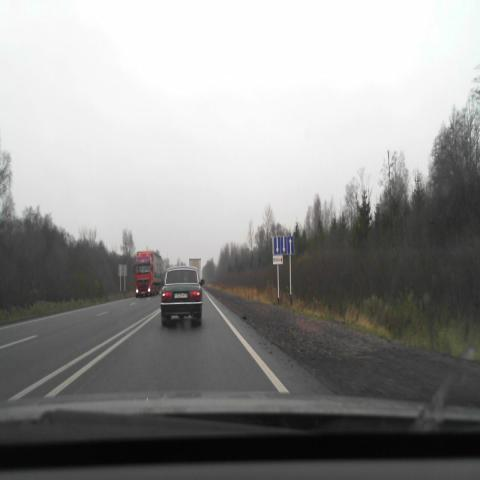5_15_7: (274, 236, 294, 255)
